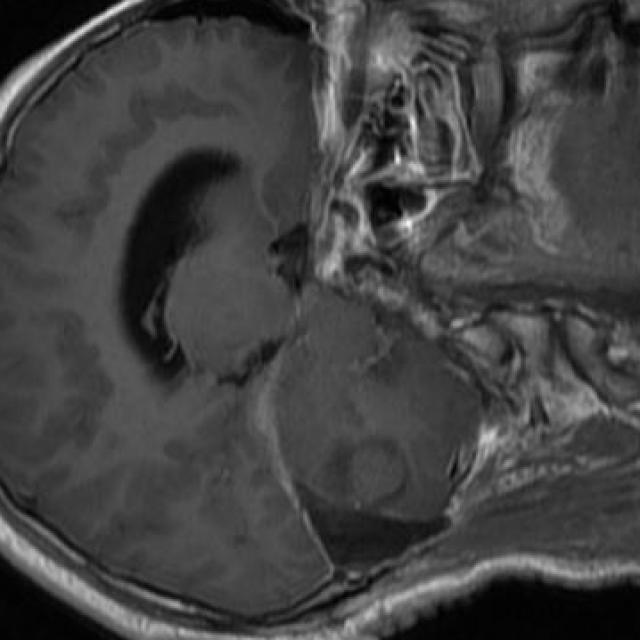glioma: (257, 298, 483, 585)
